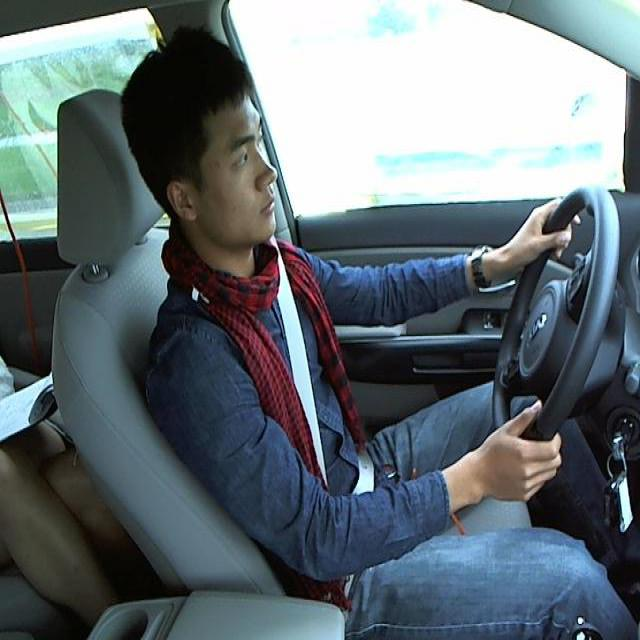seatbelt: (268, 251, 343, 489)
